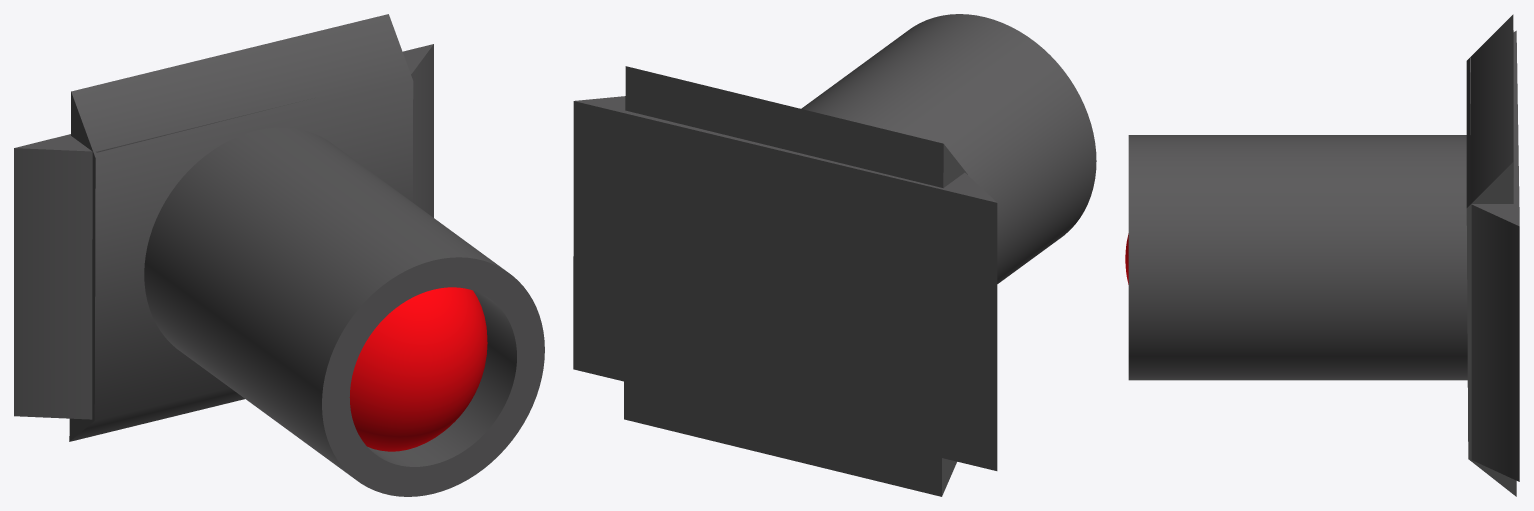
File: cctvbaddie.fbx
3 views of the same model, side by side, from view 1: azimuth 30°, elevation 25°; view 2: azimuth 150°, elevation 25°; view 3: azimuth 270°, elevation 25° (orthographic). The views are drawn at different scales.
Visible parts, largest first — view 1: root (×4); view 2: root (×3); view 3: root (×3).
Part boxes in pixels (x1,y1,x2,y2): root (×4): (14, 14, 544, 496); root (×3): (573, 14, 1096, 496); root (×3): (1128, 14, 1519, 496).
Size of the model in its own units: 0.2251 by 0.1794 by 0.1913.
Materials: 4 (3 with a texture image).
